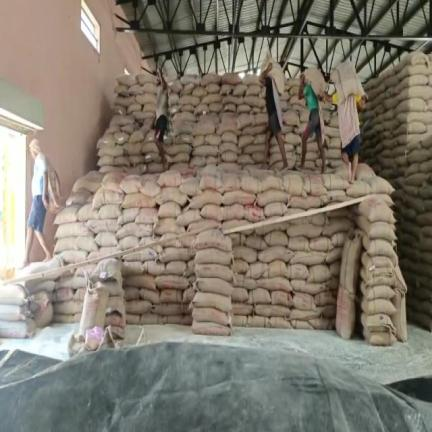Zone-Counting: (329, 61, 365, 180), (260, 57, 287, 167), (298, 68, 326, 172)
